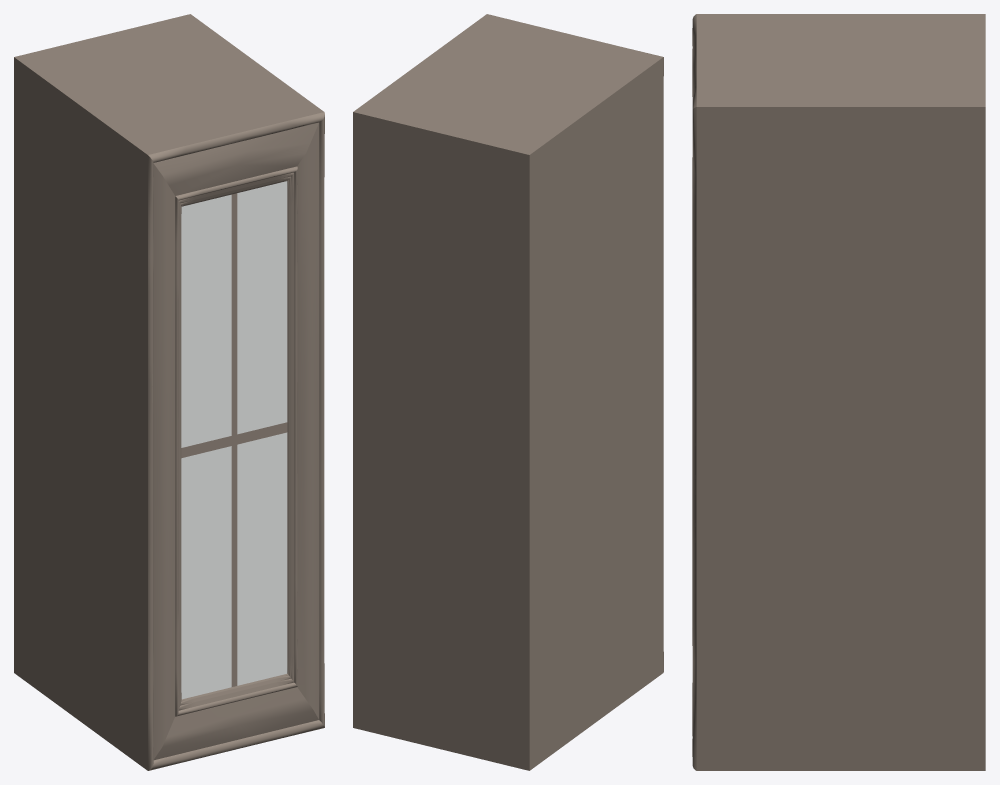
The model's file is Wall-Cabinet-with-Doors-Prepped-for-Glass_std_001_W9in.glb.
3 renders of one model, left to right at view 1: azimuth 30°, elevation 25°; view 2: azimuth 150°, elevation 25°; view 3: azimuth 270°, elevation 25°, orthographic. The views are drawn at different scales.
Visible parts, largest first — view 1: Wall-Cabinet-with-Doors-Prepped-for-Glass.std.001_W9in; view 2: Wall-Cabinet-with-Doors-Prepped-for-Glass.std.001_W9in; view 3: Wall-Cabinet-with-Doors-Prepped-for-Glass.std.001_W9in.
Part boxes in pixels (box(x1,y1,x2,y2)): Wall-Cabinet-with-Doors-Prepped-for-Glass.std.001_W9in: box(14, 14, 324, 770); Wall-Cabinet-with-Doors-Prepped-for-Glass.std.001_W9in: box(353, 14, 663, 770); Wall-Cabinet-with-Doors-Prepped-for-Glass.std.001_W9in: box(692, 14, 985, 770).
Size of the model in its own units: 0.2286 by 0.762 by 0.3048.
